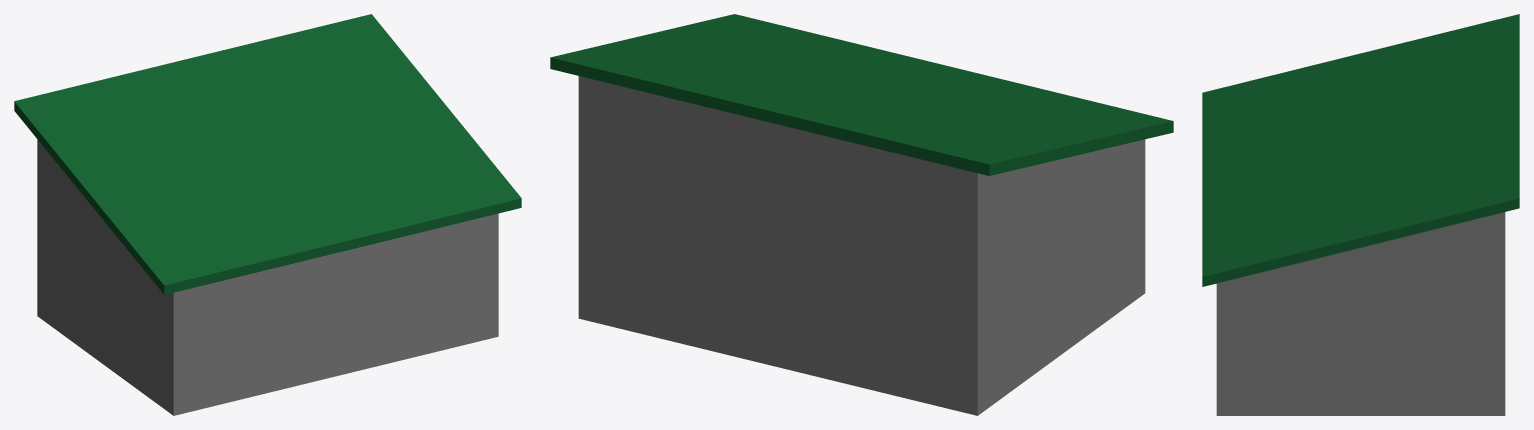
The model's file is Recycle_Box_Model.fbx.
3 views of the same model, side by side, from view 1: azimuth 30°, elevation 25°; view 2: azimuth 150°, elevation 25°; view 3: azimuth 270°, elevation 25° (orthographic). The views are drawn at different scales.
Visible parts, largest first — view 1: Recycle_Box, Cube.004, Cube.003; view 2: Cube.005, Recycle_Box, Cube.003; view 3: Recycle_Box, Cube.006.
Part boxes in pixels (x1,y1,x2,y2): Recycle_Box: (14, 14, 521, 294); Cube.004: (173, 213, 498, 415); Cube.003: (37, 139, 173, 415); Cube.005: (578, 76, 977, 415); Recycle_Box: (550, 14, 1173, 175); Cube.003: (977, 139, 1145, 415); Recycle_Box: (1202, 14, 1519, 286); Cube.006: (1216, 212, 1505, 415).
Size of the model in its own units: 242 by 138 by 176.
